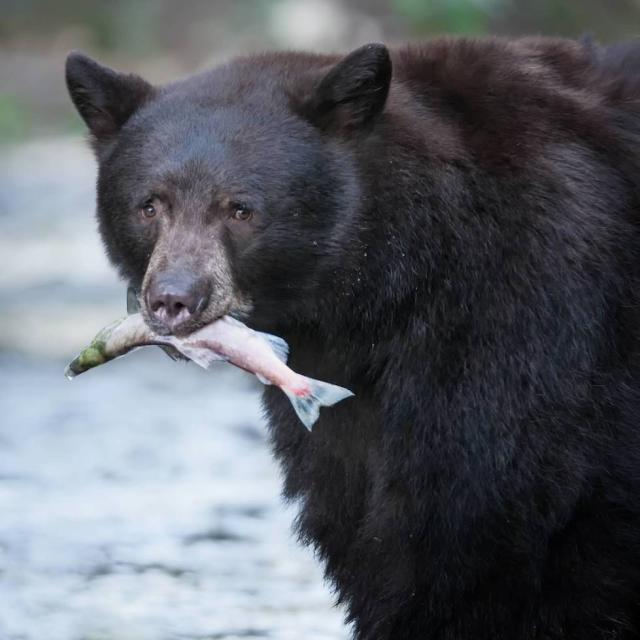Buffalo: (63, 28, 640, 640)
